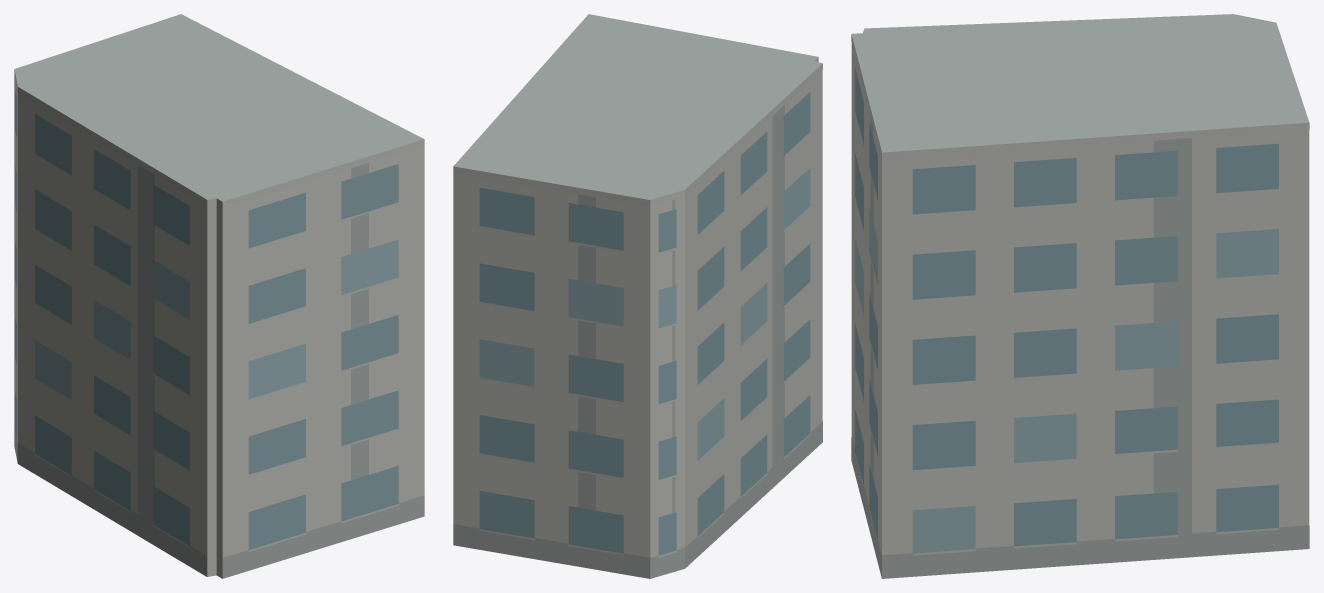
Rendered from survey-upis-32843825.glb.
3 renders of one model, left to right at view 1: azimuth 30°, elevation 25°; view 2: azimuth 150°, elevation 25°; view 3: azimuth 270°, elevation 25°, orthographic. The views are drawn at different scales.
Visible parts, largest first — view 1: survey-upis-32843825.tmp; view 2: survey-upis-32843825.tmp; view 3: survey-upis-32843825.tmp.
Part boxes in pixels (x1,y1,x2,y2): survey-upis-32843825.tmp: (14, 14, 424, 578); survey-upis-32843825.tmp: (453, 14, 822, 578); survey-upis-32843825.tmp: (851, 14, 1309, 578).
Bounding box in the file's own units: 9.91 × 14.2 × 13.84.
